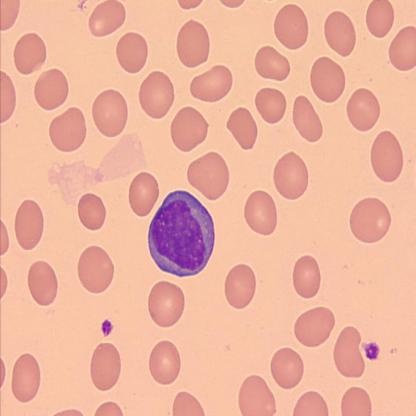Atypical lymphocyte: (148, 188, 216, 277)
